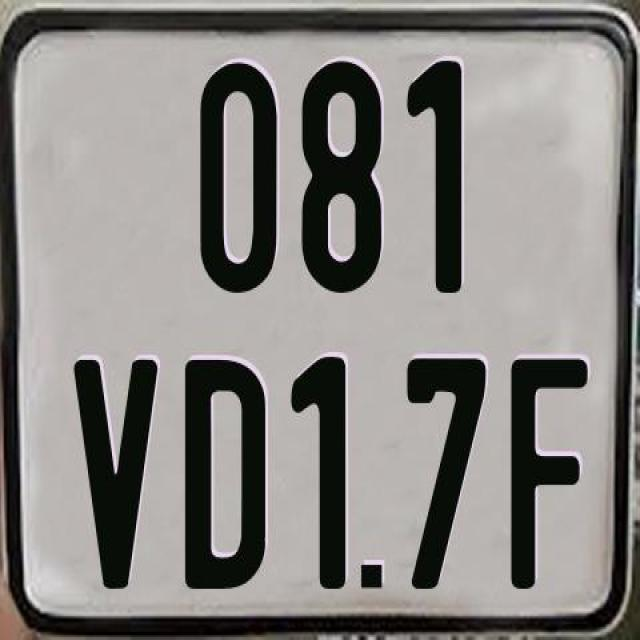0: (196, 62, 281, 296)
1: (286, 354, 346, 594), (406, 56, 462, 288)
7: (406, 355, 490, 587)
8: (302, 59, 386, 291)
D: (184, 357, 271, 592)
F: (506, 353, 584, 584)
V: (70, 358, 154, 592)
